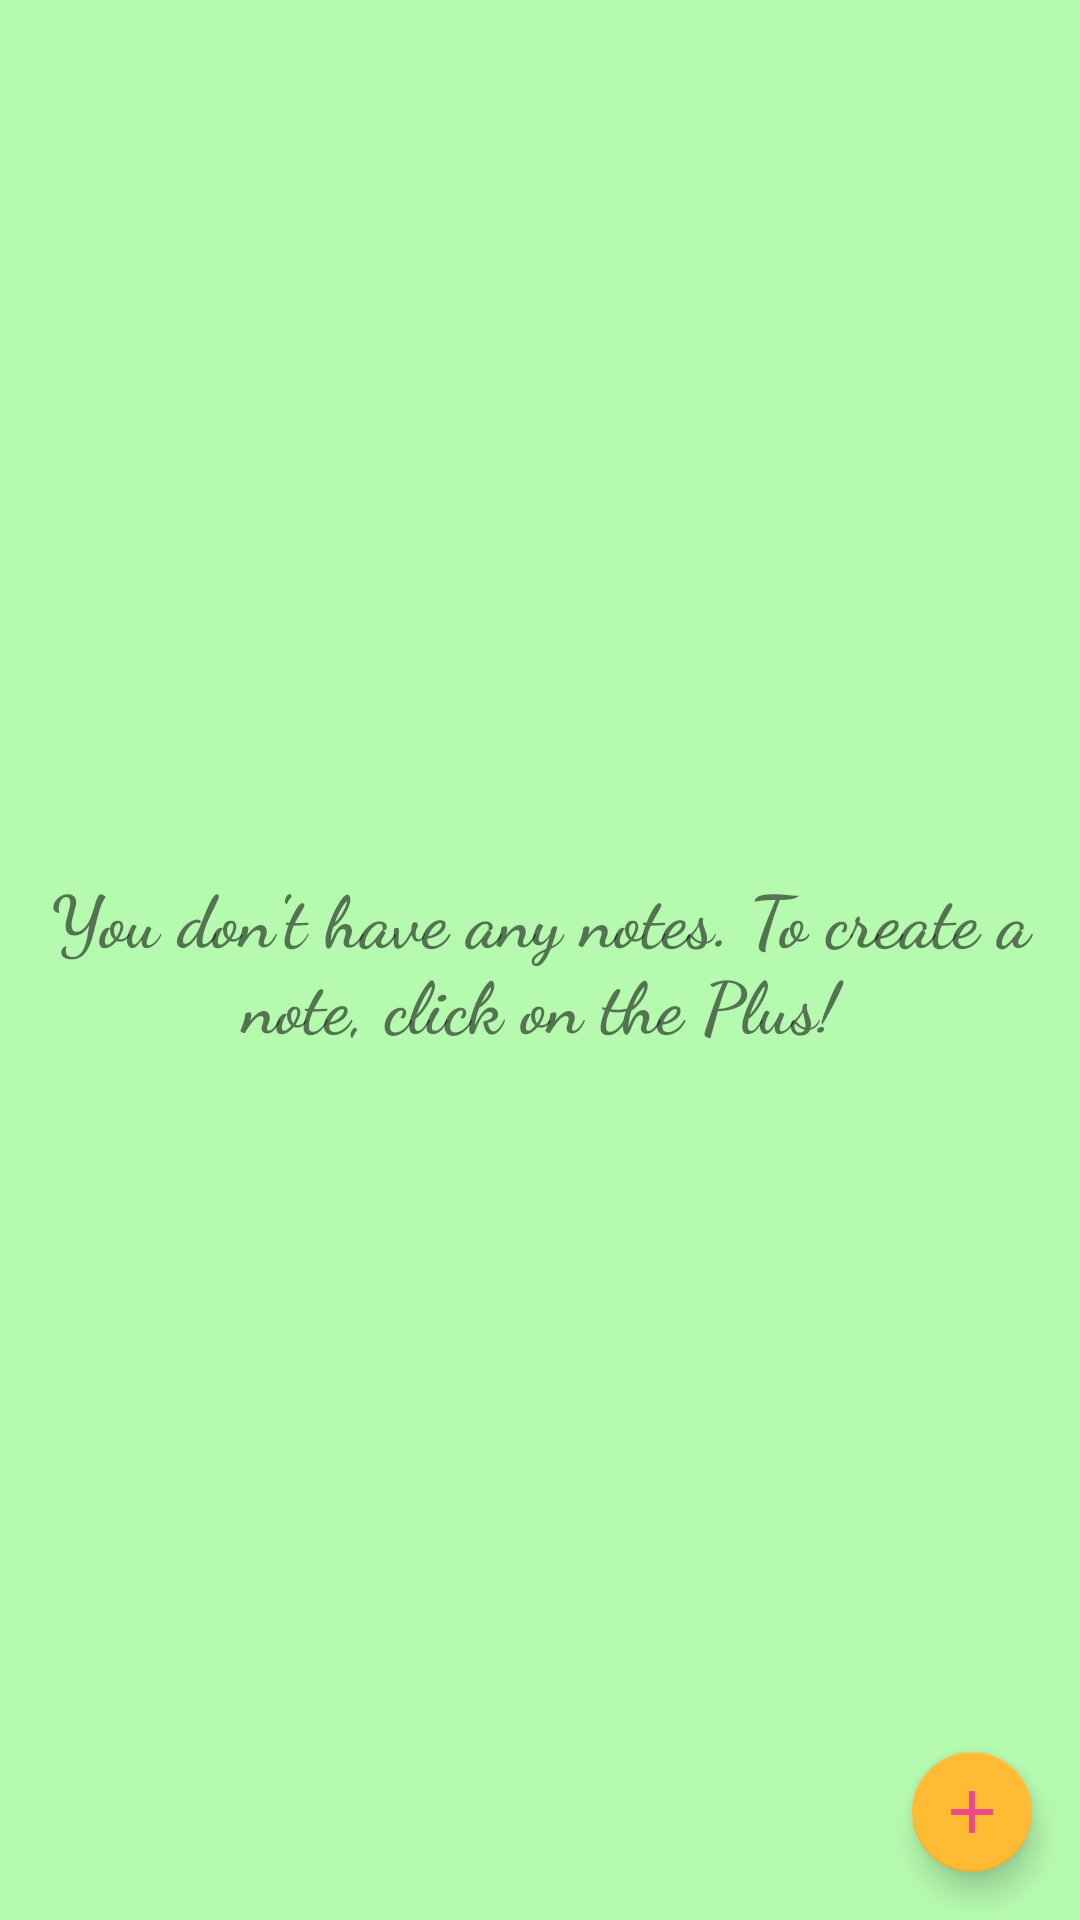

Screen size 1080 × 1920. Icon name, then its box in pixels as bbox(x1, y1, x2, y2):
add category: bbox(912, 1752, 1032, 1872)
